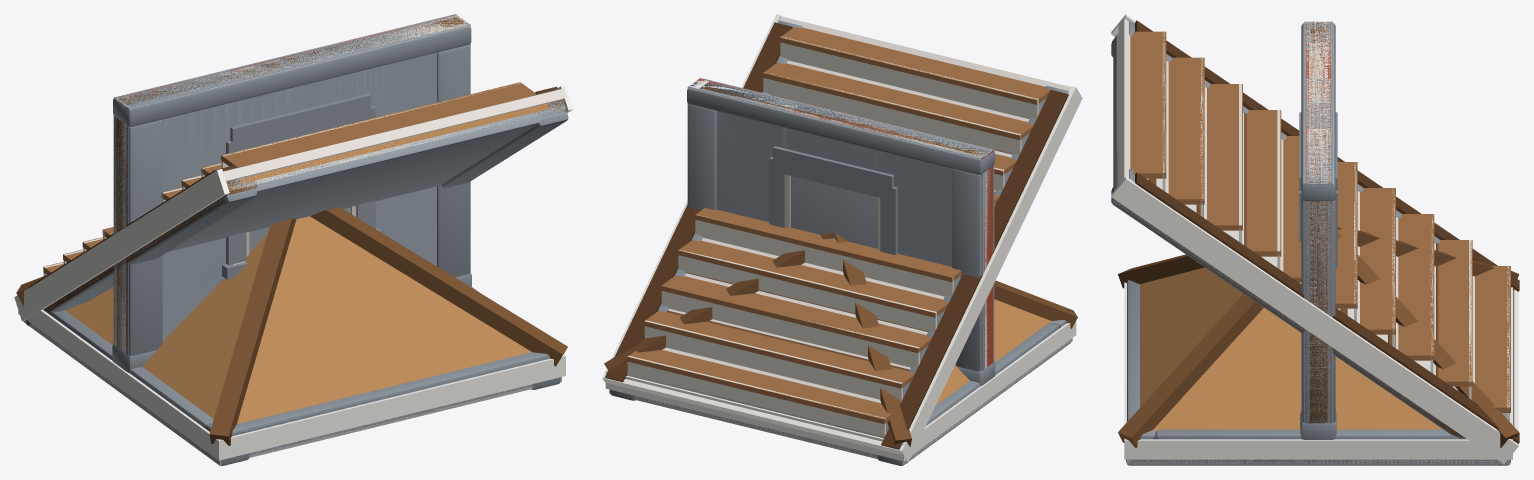
File: pieces.glb
3 renders of one model, left to right at view 1: azimuth 30°, elevation 25°; view 2: azimuth 150°, elevation 25°; view 3: azimuth 270°, elevation 25°, orthographic. The views are drawn at different scales.
Parts seen in each view (by area): view 1: Cone_wood, Wall_stone, Wall_stone_door, Ramp_stone, Wall_stone_window, RoofCone, Roof, Stairs, Cone_stone, Ramp_wood, Wall_wood, HouseWall (+3 smaller); view 2: Stairs, Wall_stone, Roof, Wall_stone_door, Wall_stone_window, Cone_wood, RoofCone, Cone_stone, BrickWall, MetalWall, Ramp_stone, BrickWallWindow (+6 smaller); view 3: Stairs, Cone_wood, Roof, RoofCone, Wall_stone, Cone_stone, Wall_wood, Ramp_stone, HouseWall, Wall_stone_window, Floor_stone, Wall_stone_door (+7 smaller).
Part boxes in pixels (left/top/right/bottom): Cone_wood: left=16, top=207, right=567, bottom=445; Wall_stone: left=112, top=15, right=471, bottom=372; Wall_stone_door: left=113, top=14, right=470, bottom=355; Ramp_stone: left=44, top=90, right=568, bottom=312; Wall_stone_window: left=113, top=14, right=470, bottom=355; RoofCone: left=18, top=310, right=565, bottom=460; Roof: left=14, top=85, right=573, bottom=321; Stairs: left=26, top=82, right=557, bottom=325; Cone_stone: left=28, top=286, right=549, bottom=463; Ramp_wood: left=44, top=100, right=565, bottom=309; Wall_wood: left=116, top=17, right=463, bottom=349; HouseWall: left=115, top=15, right=468, bottom=353; Stairs: left=605, top=22, right=1068, bottom=463; Wall_stone: left=687, top=79, right=995, bottom=386; Roof: left=602, top=14, right=1082, bottom=462; Wall_stone_door: left=687, top=78, right=994, bottom=350; Wall_stone_window: left=687, top=78, right=994, bottom=371; Cone_wood: left=604, top=232, right=1077, bottom=446; RoofCone: left=605, top=321, right=1076, bottom=461; Cone_stone: left=609, top=320, right=1072, bottom=463; BrickWall: left=688, top=78, right=993, bottom=369; MetalWall: left=691, top=81, right=989, bottom=368; Ramp_stone: left=658, top=20, right=1068, bottom=432; BrickWallWindow: left=697, top=79, right=993, bottom=368; Stairs: left=1117, top=20, right=1519, bottom=465; Cone_wood: left=1118, top=227, right=1519, bottom=447; Roof: left=1111, top=14, right=1518, bottom=463; RoofCone: left=1124, top=282, right=1512, bottom=459; Wall_stone: left=1300, top=23, right=1336, bottom=439; Cone_stone: left=1127, top=280, right=1509, bottom=462; Wall_wood: left=1310, top=23, right=1327, bottom=423; Ramp_stone: left=1111, top=21, right=1466, bottom=438; HouseWall: left=1306, top=21, right=1330, bottom=408; Wall_stone_window: left=1299, top=21, right=1337, bottom=423; Floor_stone: left=1126, top=459, right=1510, bottom=465; Wall_stone_door: left=1299, top=22, right=1337, bottom=421.
Size of the model in its own units: 4.19 by 3.34 by 4.27.
